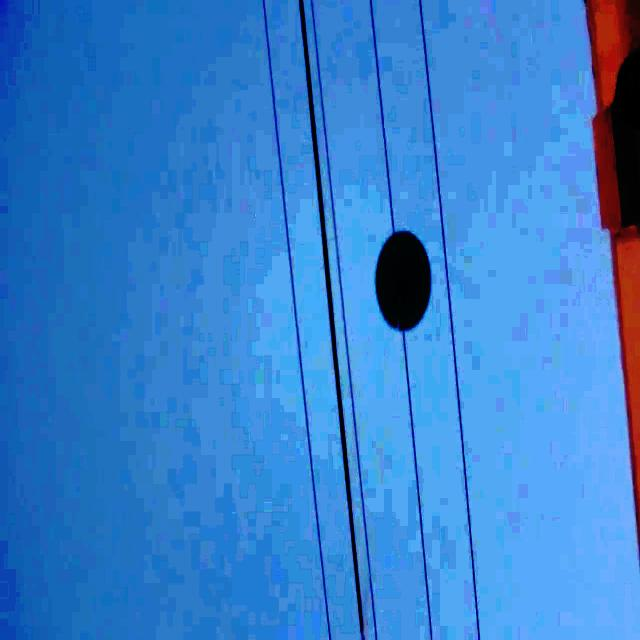obstruction: (376, 232, 430, 332)
wires: (262, 0, 332, 639), (310, 0, 377, 639), (298, 0, 364, 639), (418, 0, 480, 639), (402, 332, 432, 639), (369, 0, 396, 235)
